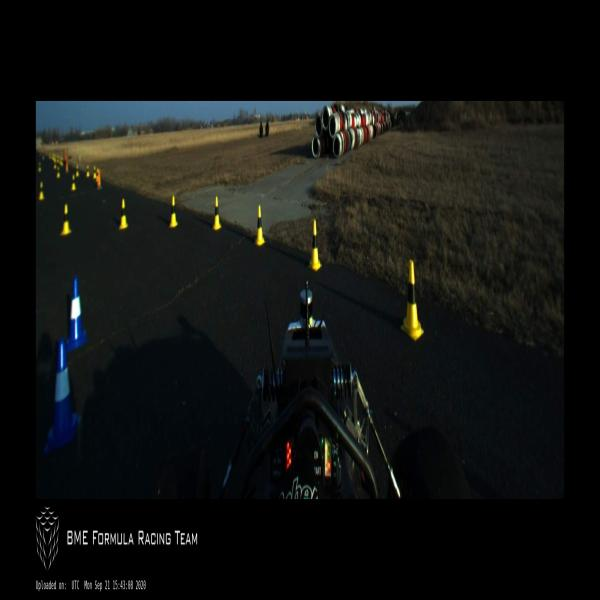blue_cone: (46, 340, 82, 448), (65, 277, 87, 352)
unknown_cone: (96, 169, 102, 189)
yellow_cone: (400, 259, 424, 340), (307, 218, 322, 272), (254, 206, 265, 245), (61, 203, 72, 235), (168, 196, 179, 227), (118, 198, 128, 229), (212, 196, 221, 229), (38, 182, 44, 200), (70, 174, 76, 190), (86, 164, 90, 177), (93, 166, 96, 180), (96, 169, 99, 183), (57, 166, 60, 179), (76, 164, 79, 176), (38, 162, 41, 172)
